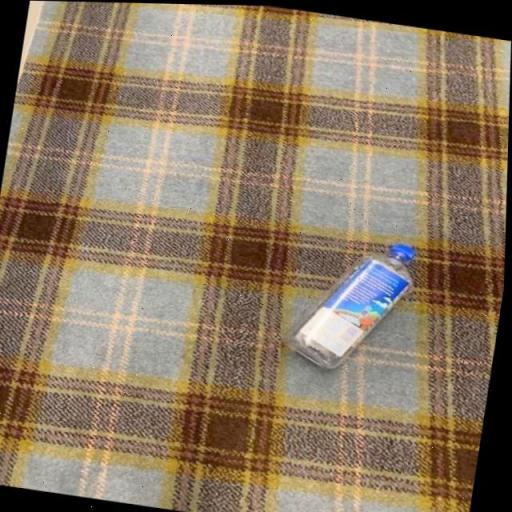plastic: (288, 241, 417, 368)
